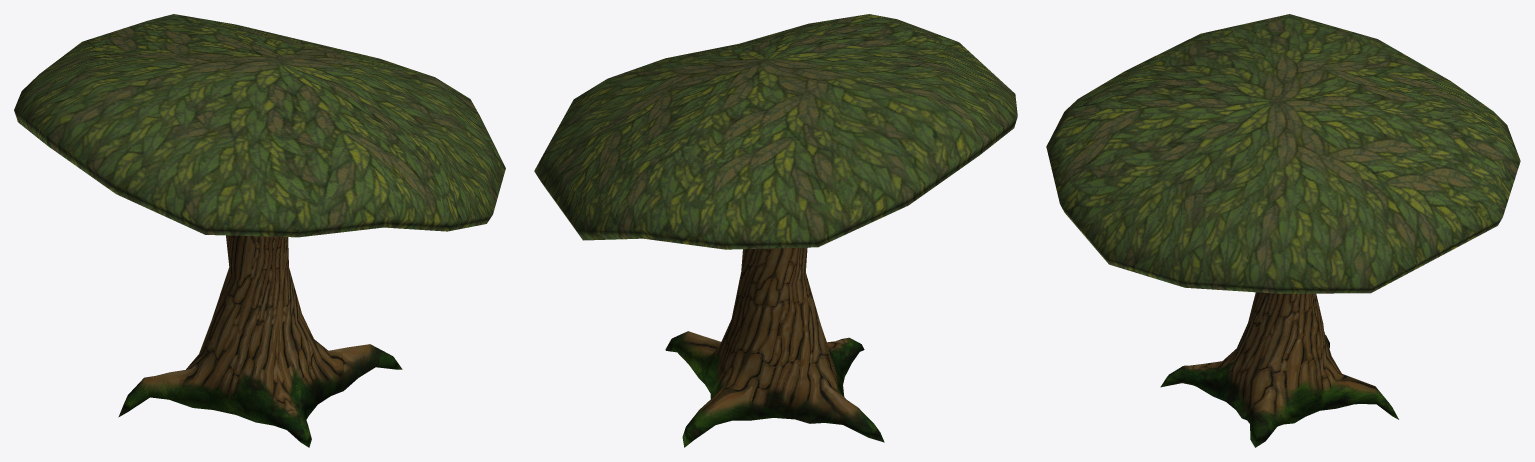
File: TwistedTree1Shape.dae
The picture shows the model from 3 angles, left to right: view 1: azimuth 30°, elevation 25°; view 2: azimuth 150°, elevation 25°; view 3: azimuth 270°, elevation 25°; orthographic projection. The views are drawn at different scales.
Parts seen in each view (by area): view 1: TwistedTree1; view 2: TwistedTree1; view 3: TwistedTree1.
Boxes of the visible parts, x1,y1,x2,y2 form: TwistedTree1: [14, 14, 505, 447]; TwistedTree1: [534, 14, 1017, 447]; TwistedTree1: [1046, 14, 1520, 447].
Size of the model in its own units: 22.7 by 17.83 by 23.94.
